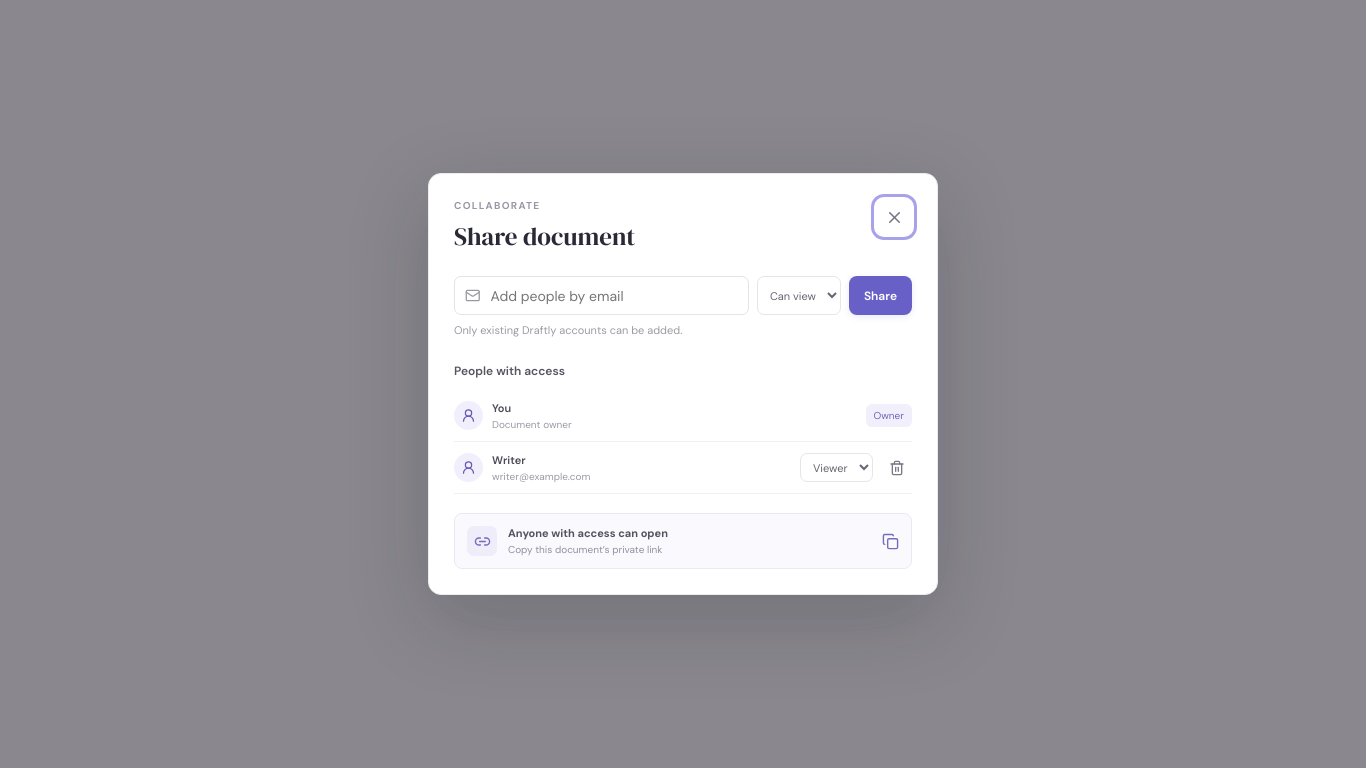
Test: ShareDialog › keeps an existing permission unchanged when the update fails
The image size is (1366, 768).
Select "Editor" in the dropdown named "Permission for writer@example.com" at (836,468), box [800, 453, 873, 482]
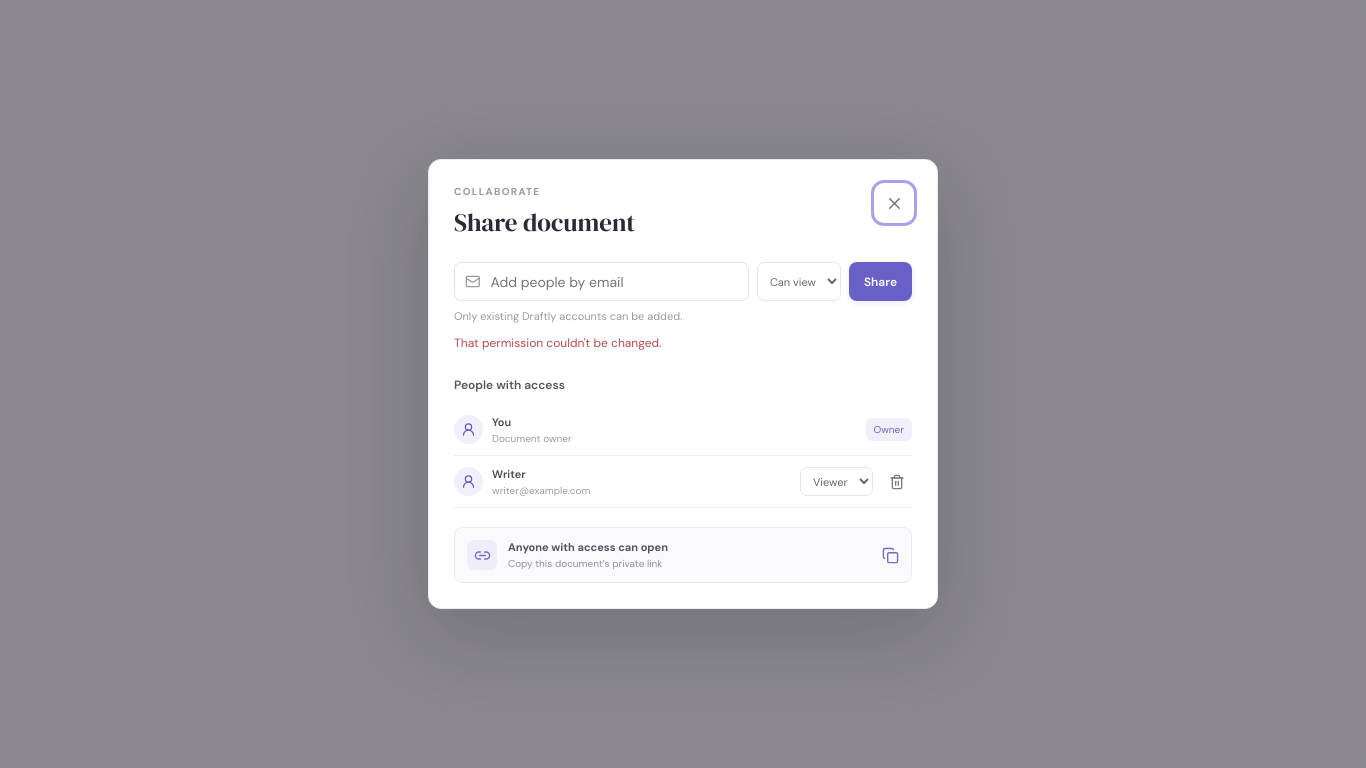
Result: the message shows "permission couldn't be changed" at [454, 335, 661, 351]
